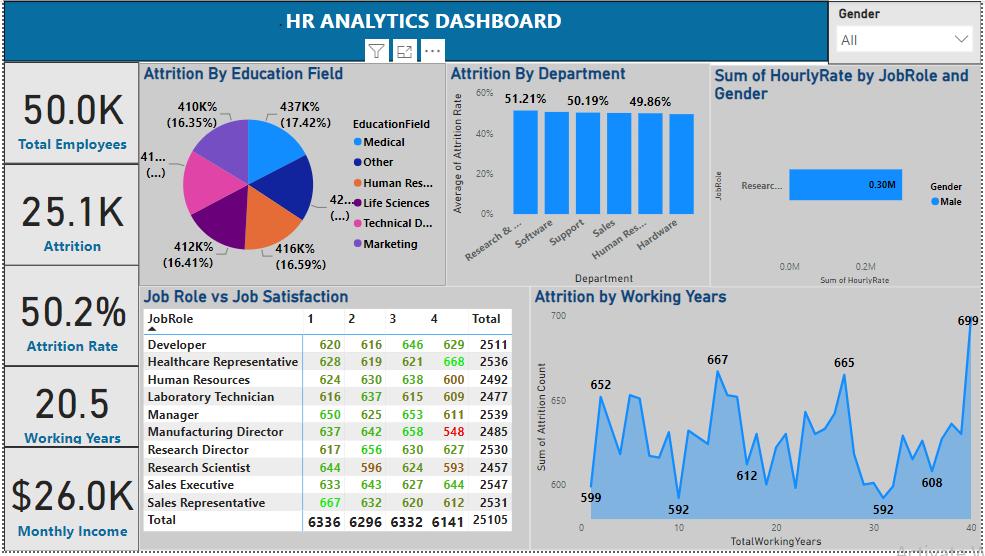

The dashboard page shown, as its layout file describes it:
{"tool":"powerbi","page":{"name":"Dashboard","canvas":[1280,720],"ordinal":0},"visuals":[{"type":"card","fields":{"Values":["Avg(HR1.Attrition Rate)"]},"box":[0,342.5,176.7,135.2],"z":0},{"type":"textbox","box":[0,0,1078.6,79.2],"z":1000},{"type":"card","fields":{"Values":["CountNonNull(HR1.EmployeeNumber)"]},"box":[0,79.3,176.7,133.4],"z":2000},{"type":"card","fields":{"Values":["Sum(HR1.Attrition Count)"]},"box":[0,212.7,176.7,133.4],"z":3000},{"type":"card","fields":{"Values":["Avg(HR2.TotalWorkingYears)"]},"box":[0,477.7,176.7,106.4],"z":4000},{"type":"card","fields":{"Values":["Avg(HR2.MonthlyIncome)"]},"box":[0,584.1,176.7,137],"z":5000},{"type":"pieChart","title":"Attrition By Education Field","fields":{"Category":["HR1.EducationField"],"Y":["Sum(HR1.Attrition Rate)"]},"box":[177.1,80.6,401.8,292.3],"z":6000},{"type":"columnChart","title":"Attrition By Department","fields":{"Category":["HR1.Department"],"Y":["Avg(HR1.Attrition Rate)"]},"box":[578.9,80.6,345.6,293.8],"z":7000},{"type":"pivotTable","title":"Job Role vs Job Satisfaction","fields":{"Rows":["HR1.JobRole"],"Columns":["HR1.JobSatisfaction"],"Values":["Sum(HR1.Attrition Count)"]},"box":[176.7,373.2,512,346.1],"z":8000},{"type":"areaChart","title":"Attrition by Working Years","fields":{"Category":["HR2.TotalWorkingYears"],"Y":["Sum(HR1.Attrition Count)"]},"box":[688.7,373.2,591.3,346.1],"z":9000},{"type":"slicer","fields":{"Values":["HR1.Gender"]},"box":[1078.7,0,201.3,82.7],"z":10000},{"type":"clusteredBarChart","fields":{"Series":["HR1.Gender"],"Y":["Sum(HR1.HourlyRate)"],"Category":["HR1.JobRole"]},"box":[924.5,83.5,355.7,290.9],"z":11000}]}

Visuals, with their boxes in screenshot pixels (x1, y1, x2, y2), scaled from the page's 1280x720 canvas onto the 985x556 screenshot:
card - Avg(HR1.Attrition Rate): BBox(0, 264, 136, 369)
textbox: BBox(0, 0, 830, 61)
card - CountNonNull(HR1.EmployeeNumber): BBox(0, 61, 136, 164)
card - Sum(HR1.Attrition Count): BBox(0, 164, 136, 267)
card - Avg(HR2.TotalWorkingYears): BBox(0, 369, 136, 451)
card - Avg(HR2.MonthlyIncome): BBox(0, 451, 136, 555)
"Attrition By Education Field" pieChart: BBox(136, 62, 445, 288)
"Attrition By Department" columnChart: BBox(445, 62, 711, 289)
"Job Role vs Job Satisfaction" pivotTable: BBox(136, 288, 530, 555)
"Attrition by Working Years" areaChart: BBox(530, 288, 984, 555)
slicer - HR1.Gender: BBox(830, 0, 984, 64)
clusteredBarChart - HR1.Gender x Sum(HR1.HourlyRate): BBox(711, 64, 984, 289)
